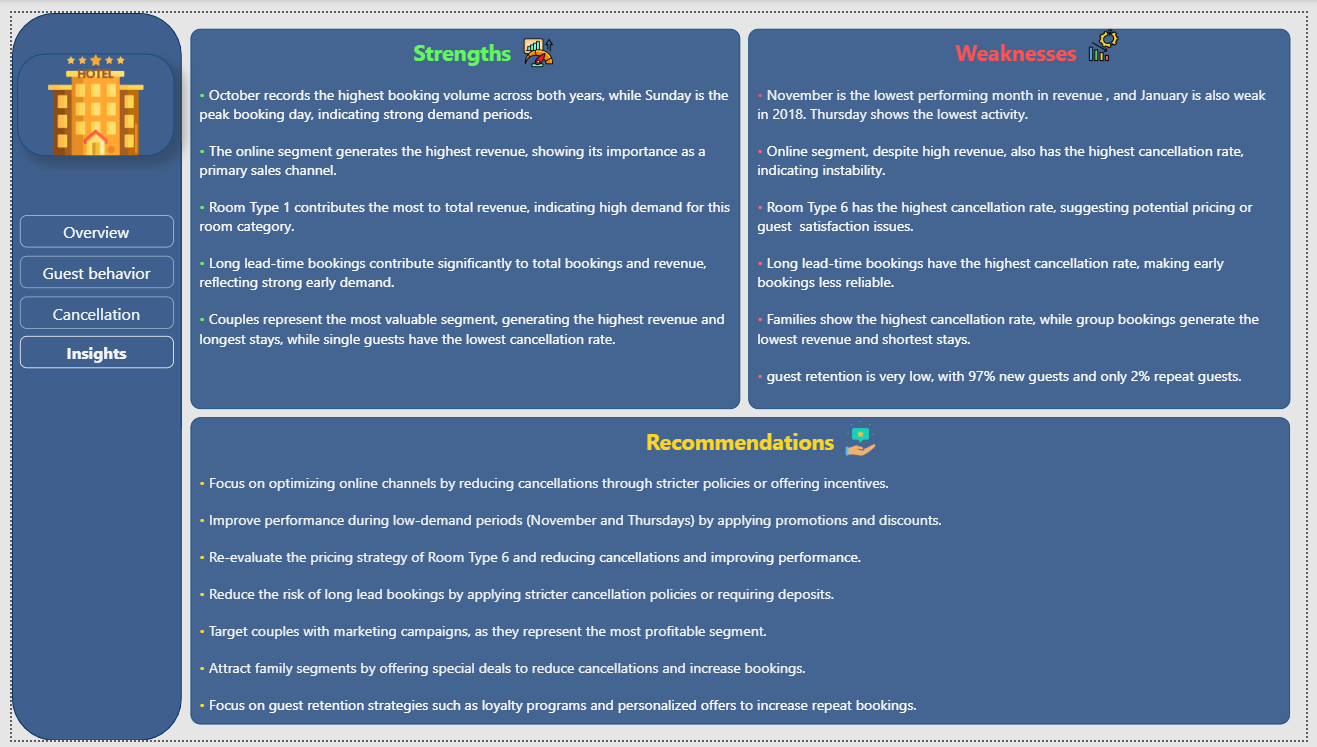

This screenshot's page, from the dashboard's own definition file:
{"tool":"powerbi","page":{"name":"Insights","canvas":[1280,720],"ordinal":3},"visuals":[{"type":"shape","box":[0,0,168,720],"z":0,"group":"g1"},{"type":"textbox","box":[176,16,544,376],"z":0},{"type":"textbox","box":[728,16,536,376],"z":1000},{"type":"textbox","box":[176,400,1088,304],"z":2000},{"type":"image","box":[496,24,48,32],"z":3000},{"type":"image","box":[1056,16,48,32],"z":4000},{"type":"image","box":[816,400,48,40],"z":5000},{"type":"group","id":"g1","title":"Group 8","box":[0,0,168,720],"z":6000},{"type":"textbox","box":[24,200,120,32],"z":7000},{"type":"image","box":[5.7,40,155.7,101.4],"z":9000,"group":"g1"},{"type":"shape","box":[8,200,152,32],"z":13000,"group":"g1"},{"type":"group","id":"g2","title":"Group 1","box":[8,280,152,32],"z":15000,"group":"g1"},{"type":"group","id":"g3","title":"Group 1","box":[8,240,152,32],"z":16000,"group":"g1"},{"type":"shape","box":[8,240,152,32],"z":16000,"group":"g3"},{"type":"shape","box":[8,280,152,32],"z":16000,"group":"g2"},{"type":"shape","box":[8,320,152,32],"z":16000,"group":"g4"},{"type":"textbox","box":[16,240,136,32],"z":17000,"group":"g3"},{"type":"textbox","box":[16,280,136,32],"z":17000,"group":"g2"},{"type":"group","id":"g4","title":"Group 1","box":[8,320,152,32],"z":17000,"group":"g1"},{"type":"textbox","box":[16,320,136,32],"z":17000,"group":"g4"}]}

Visuals, with their boxes in screenshot pixels (x1, y1, x2, y2), scaled from the page's 1280x720 canvas onto the 1317x747 screenshot:
shape: detection(0, 0, 173, 746)
textbox: detection(181, 17, 741, 407)
textbox: detection(749, 17, 1301, 407)
textbox: detection(181, 415, 1301, 730)
image: detection(510, 25, 560, 58)
image: detection(1087, 17, 1136, 50)
image: detection(840, 415, 889, 457)
"Group 8" group: detection(0, 0, 173, 746)
textbox: detection(25, 208, 148, 241)
image: detection(6, 42, 166, 147)
shape: detection(8, 208, 165, 241)
"Group 1" group: detection(8, 290, 165, 324)
"Group 1" group: detection(8, 249, 165, 282)
shape: detection(8, 249, 165, 282)
shape: detection(8, 290, 165, 324)
shape: detection(8, 332, 165, 365)
textbox: detection(16, 249, 156, 282)
textbox: detection(16, 290, 156, 324)
"Group 1" group: detection(8, 332, 165, 365)
textbox: detection(16, 332, 156, 365)
